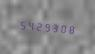eight: (65, 21, 72, 36)
five: (17, 17, 24, 31)
four: (25, 18, 32, 32)
nine: (41, 19, 48, 34)
three: (49, 20, 56, 34)
two: (33, 18, 40, 33)
zero: (57, 20, 64, 35)
